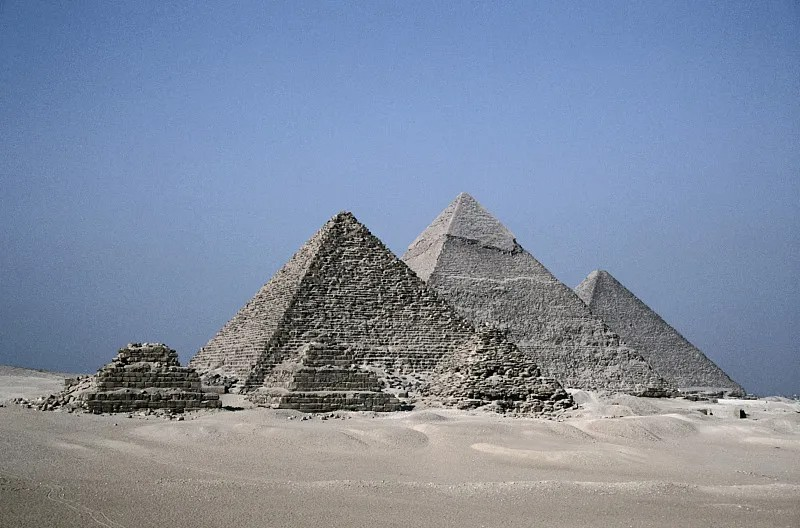Pyramid: (186, 211, 568, 398), (399, 192, 681, 395), (575, 270, 745, 392), (425, 328, 578, 413), (251, 336, 402, 411), (68, 341, 223, 410)
